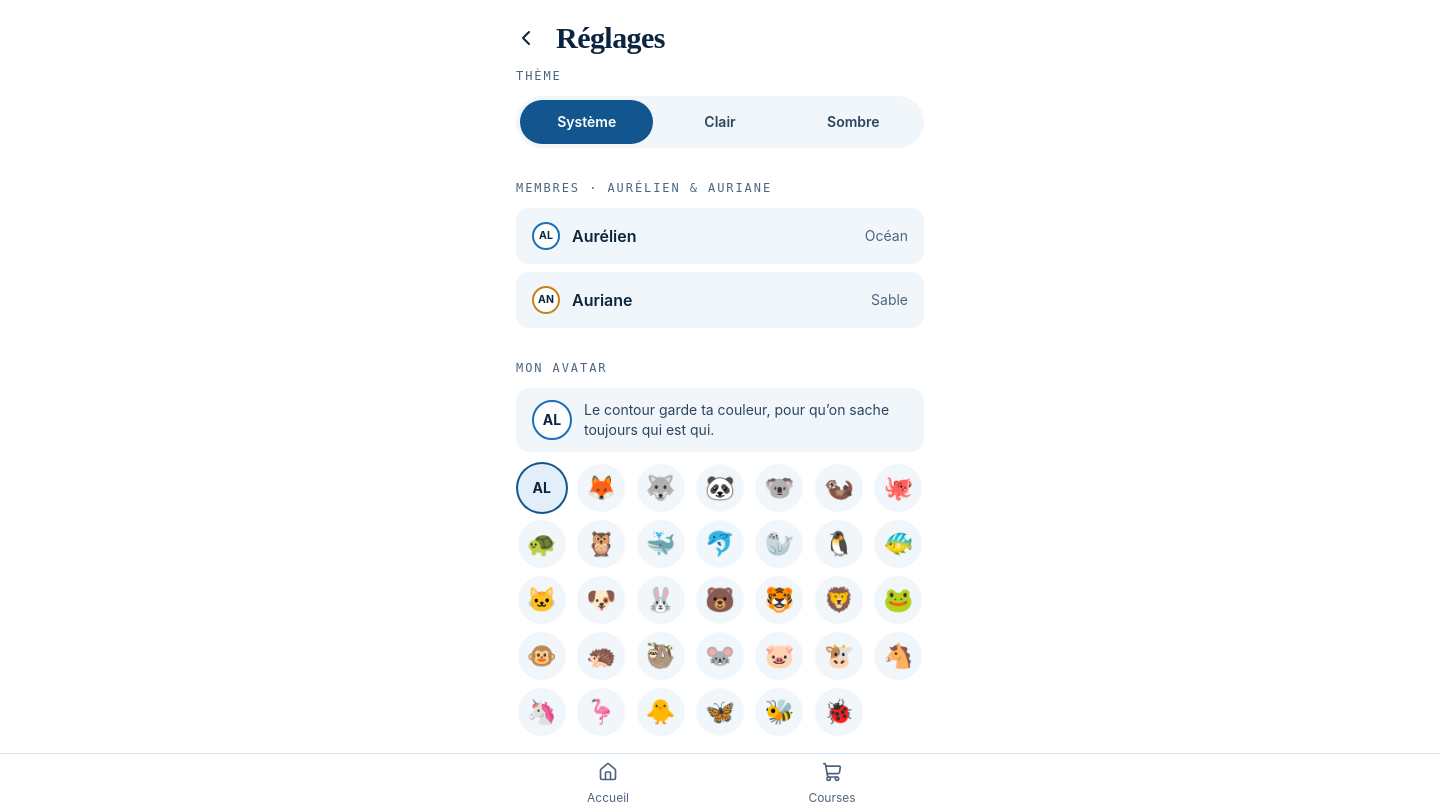
avatar personnalisé › choisit un animal, l’affiche partout, puis revient aux initiales
Click the radio button named "Loutre" at x=839, y=488, box [815,464,863,512]
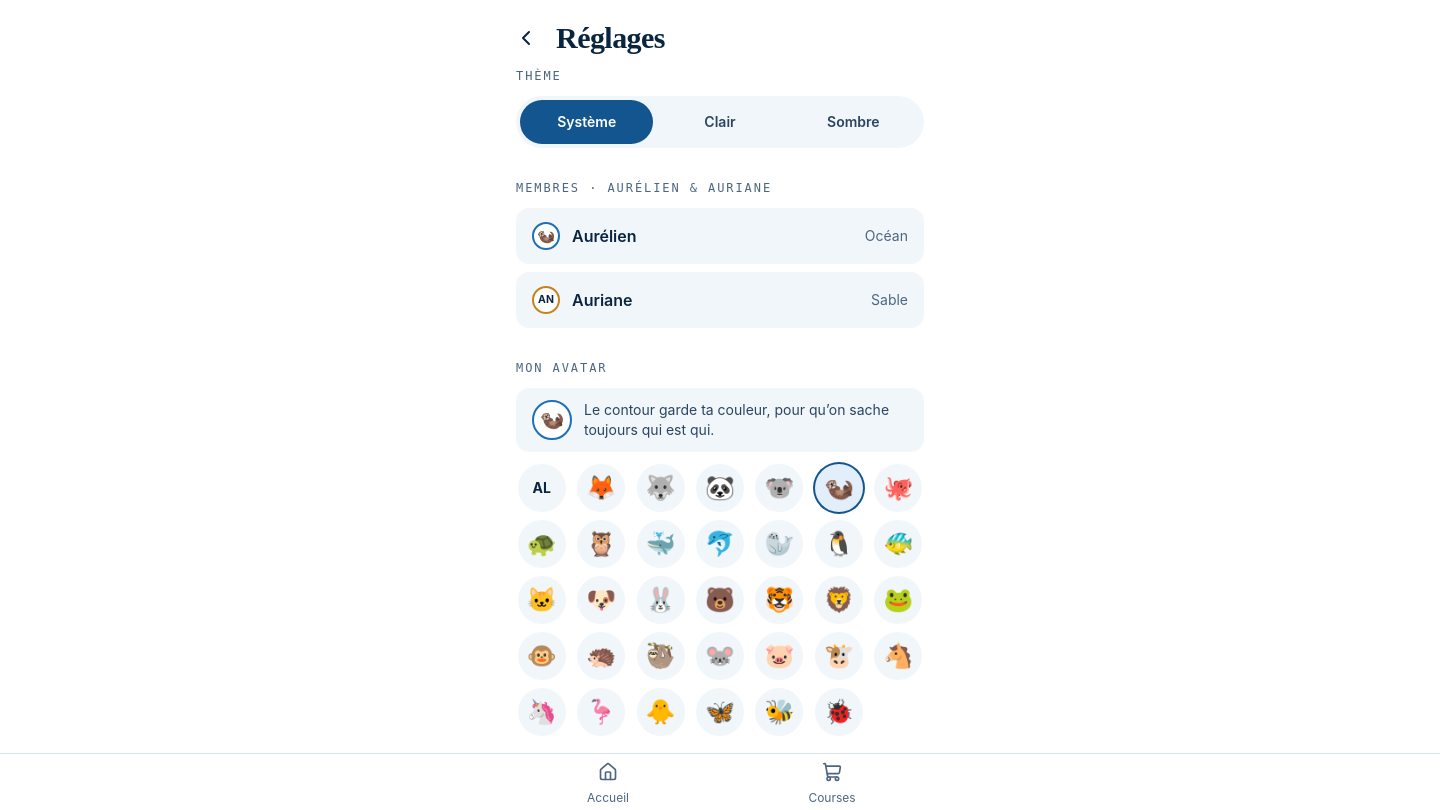
Check: the picture named "Aurélien" reads "🦦", box [537,227,555,245]
Click the radio button with aria-label "Initiales" at x=542, y=488, box [518,464,566,512]
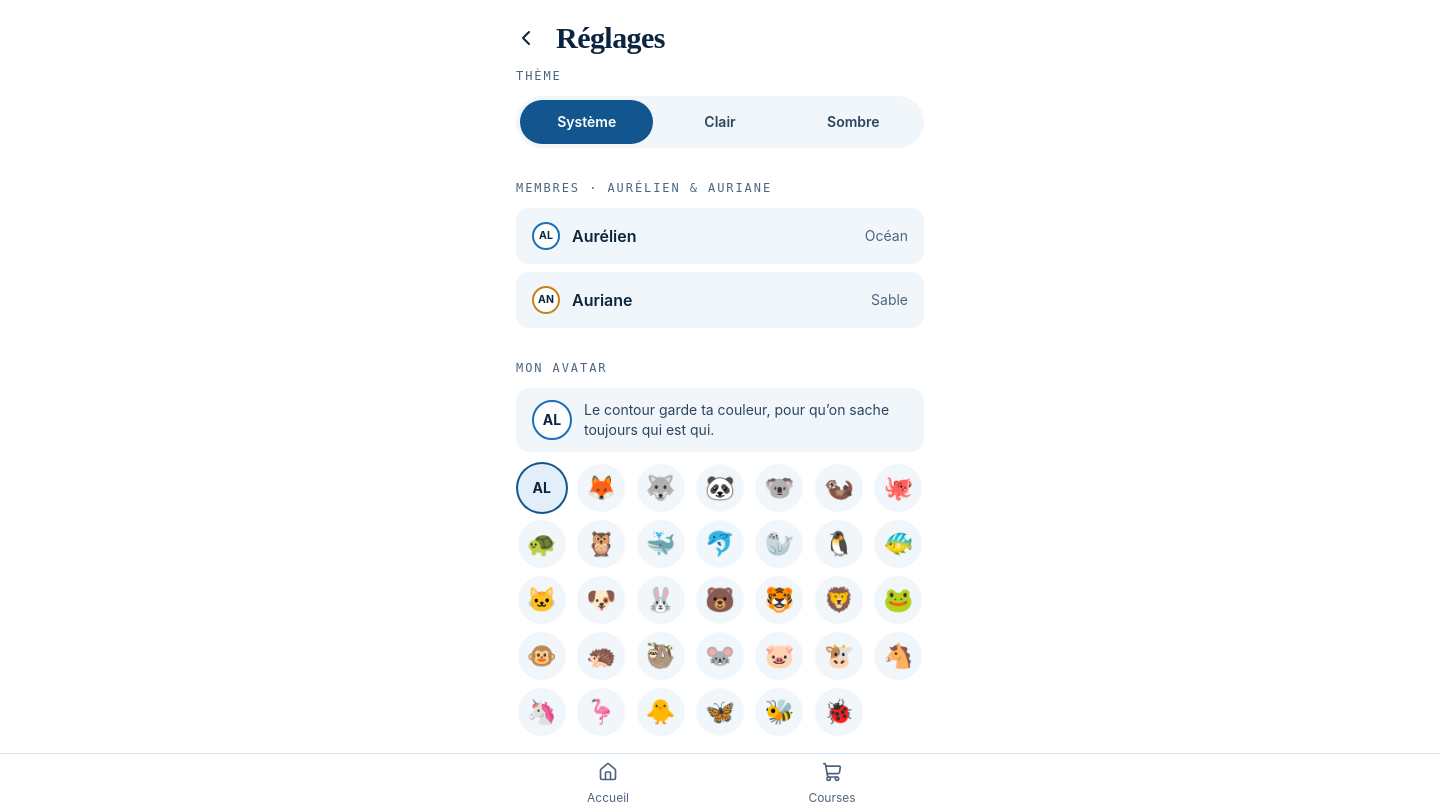
Check: the text "AL" in the row of "Océan" is shown, box [539,229,553,242]
